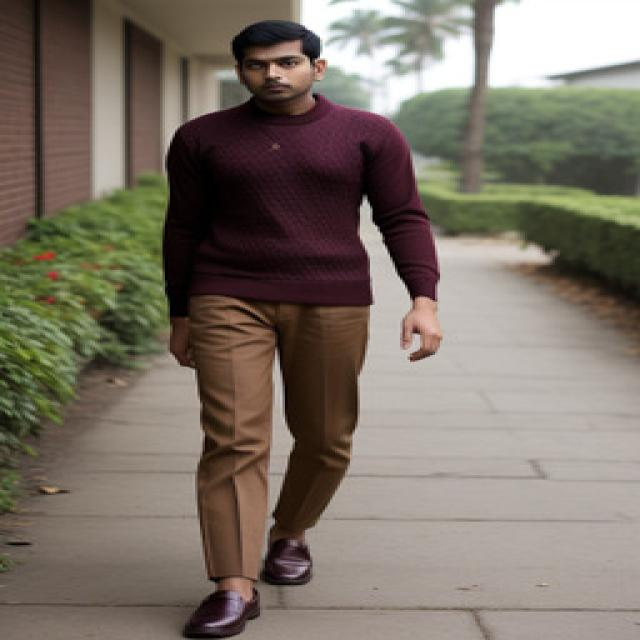Ai human 2: (142, 11, 459, 640)
